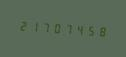eight: (94, 22, 104, 39)
five: (83, 21, 93, 39)
four: (72, 20, 82, 38)
one: (28, 17, 38, 35)
seven: (39, 18, 49, 36), (61, 19, 71, 37)
two: (17, 16, 27, 34)
zero: (50, 19, 60, 36)
